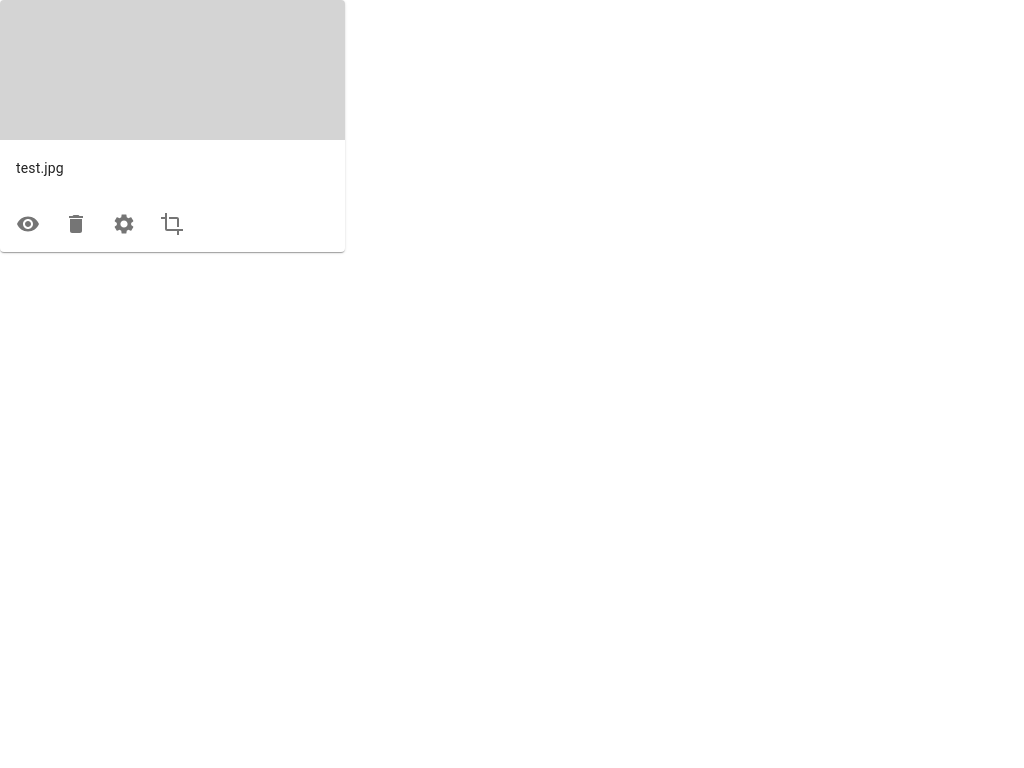
Test case: ArtItemCard › opens dialog when settings button is clicked
The image size is (1024, 768).
Step 1. Click the button named "Settings for test.jpg" → (124, 224), box [104,204,144,244]
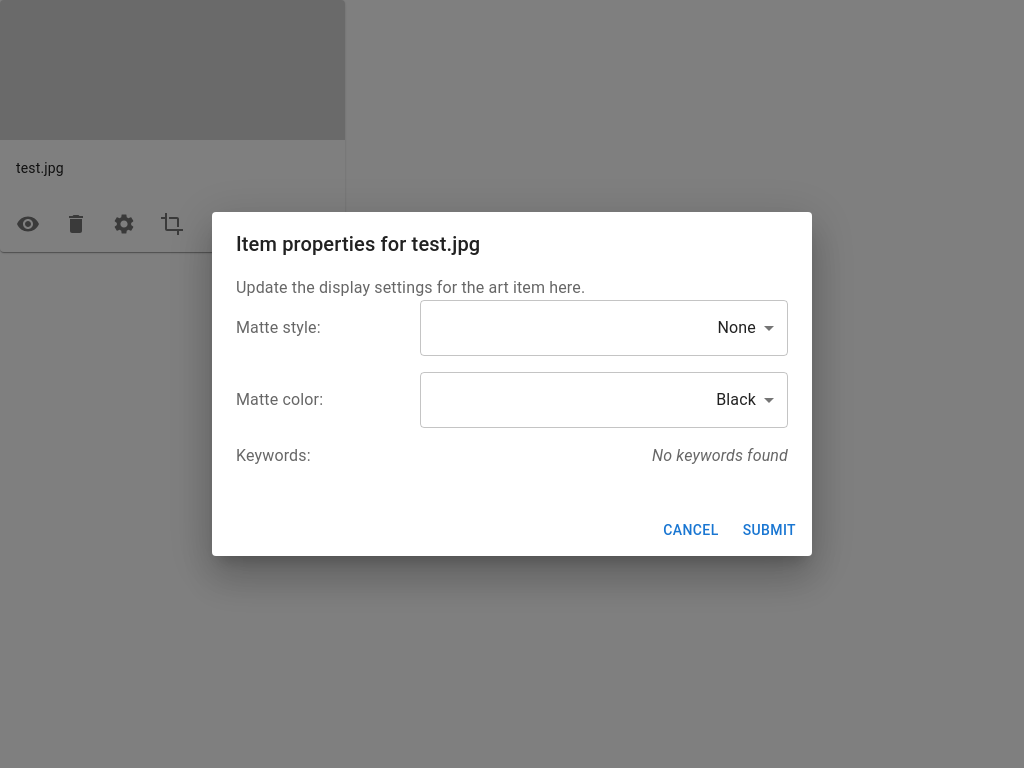
Check: the dialog is shown, box [212,212,812,556]
